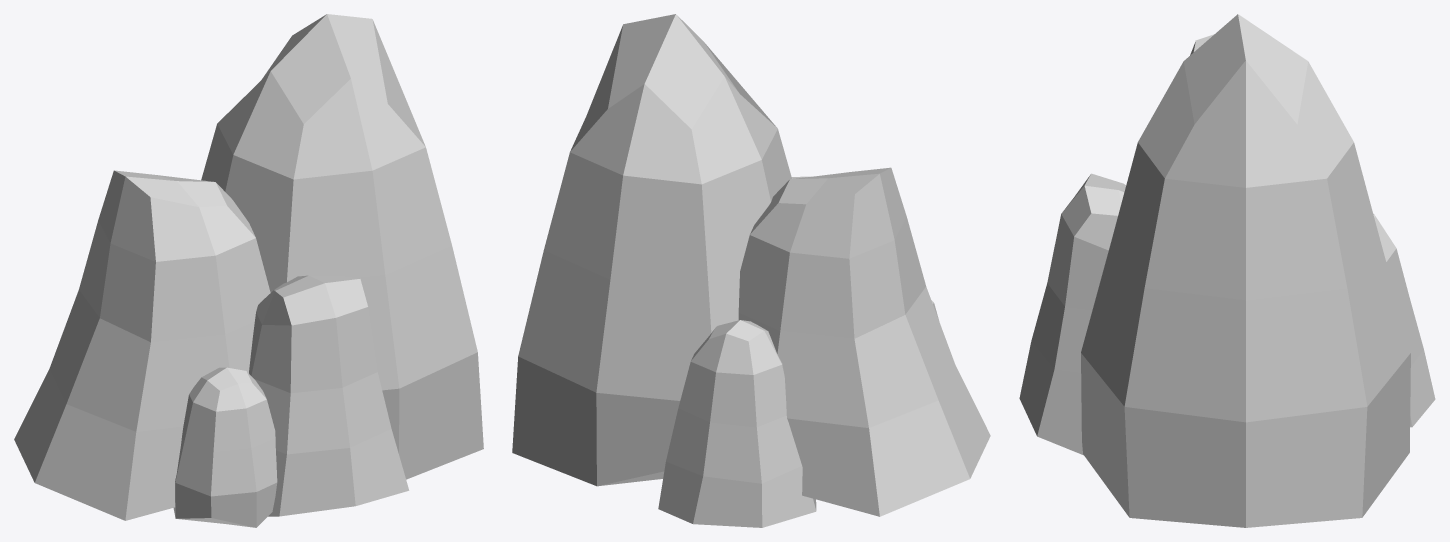
File: obj_rock_1.fbx
The picture shows the model from 3 angles, left to right: view 1: azimuth 30°, elevation 25°; view 2: azimuth 150°, elevation 25°; view 3: azimuth 270°, elevation 25°; orthographic projection. The views are drawn at different scales.
Visible parts, largest first — view 1: obj_rock_1; view 2: obj_rock_1; view 3: obj_rock_1.
Part boxes in pixels (x1,y1,x2,y2): obj_rock_1: (14,14,483,527); obj_rock_1: (512,14,990,527); obj_rock_1: (1019,14,1435,527).
Size of the model in its own units: 1.34 by 1.35 by 1.04.
1 material, 1 textured.
